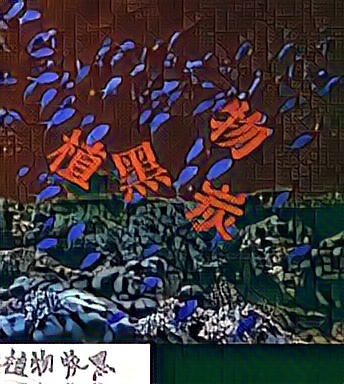BADA: (109, 138, 174, 205)
CCBF: (182, 175, 247, 242)
CEEF: (206, 98, 271, 165)
D6B2: (43, 126, 108, 193)
